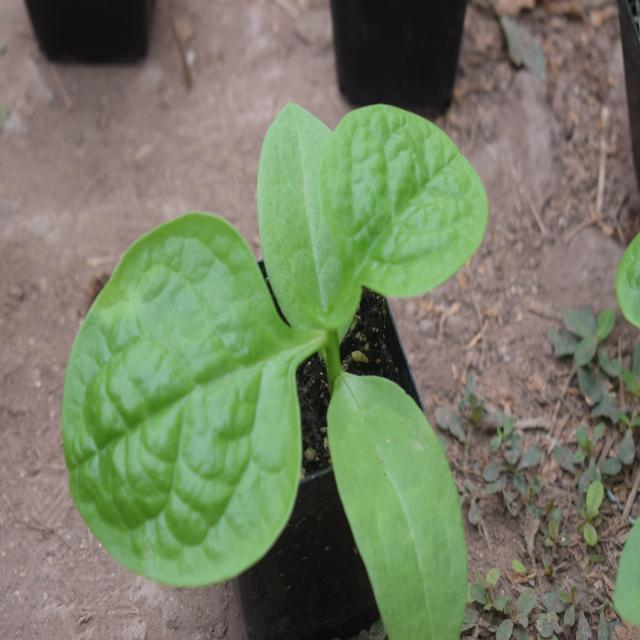Ceylon spinach: (70, 105, 496, 579)
